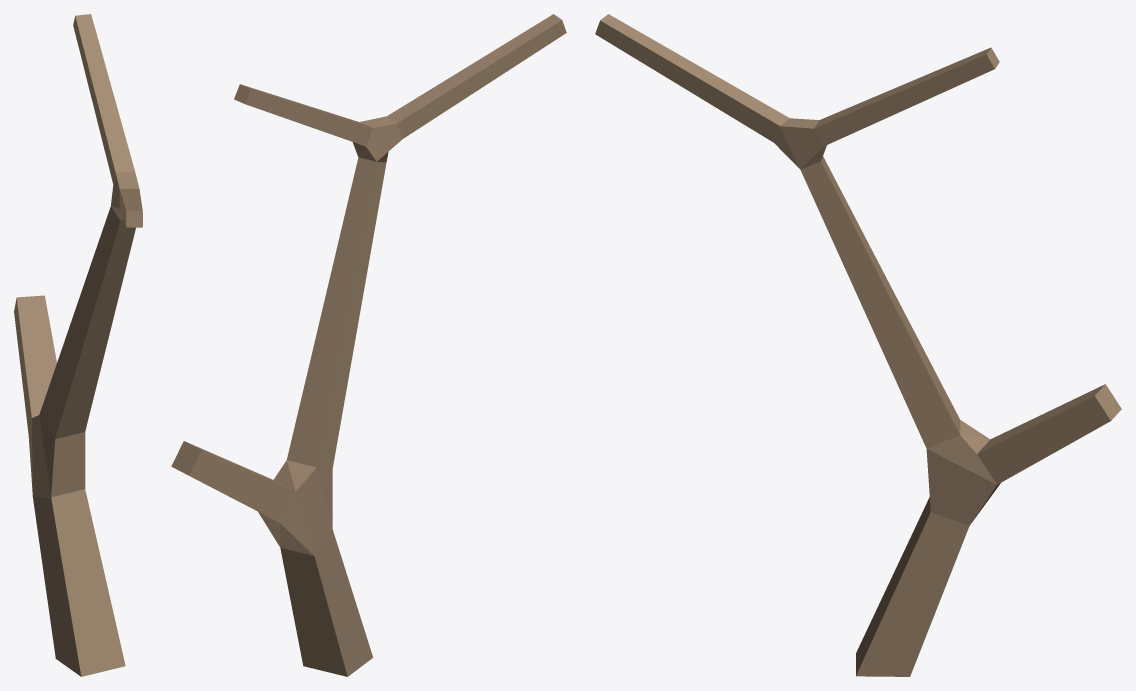
File: tree2.fbx
3 views of the same model, side by side, from view 1: azimuth 30°, elevation 25°; view 2: azimuth 150°, elevation 25°; view 3: azimuth 270°, elevation 25° (orthographic). The views are drawn at different scales.
Parts seen in each view (by area): view 1: Plane.001; view 2: Plane.001; view 3: Plane.001.
Boxes of the visible parts, x1,y1,x2,y2 form: Plane.001: (14, 14, 142, 676); Plane.001: (171, 14, 566, 676); Plane.001: (595, 14, 1121, 676).
Bounding box in the file's own units: 175 × 648 × 486.
